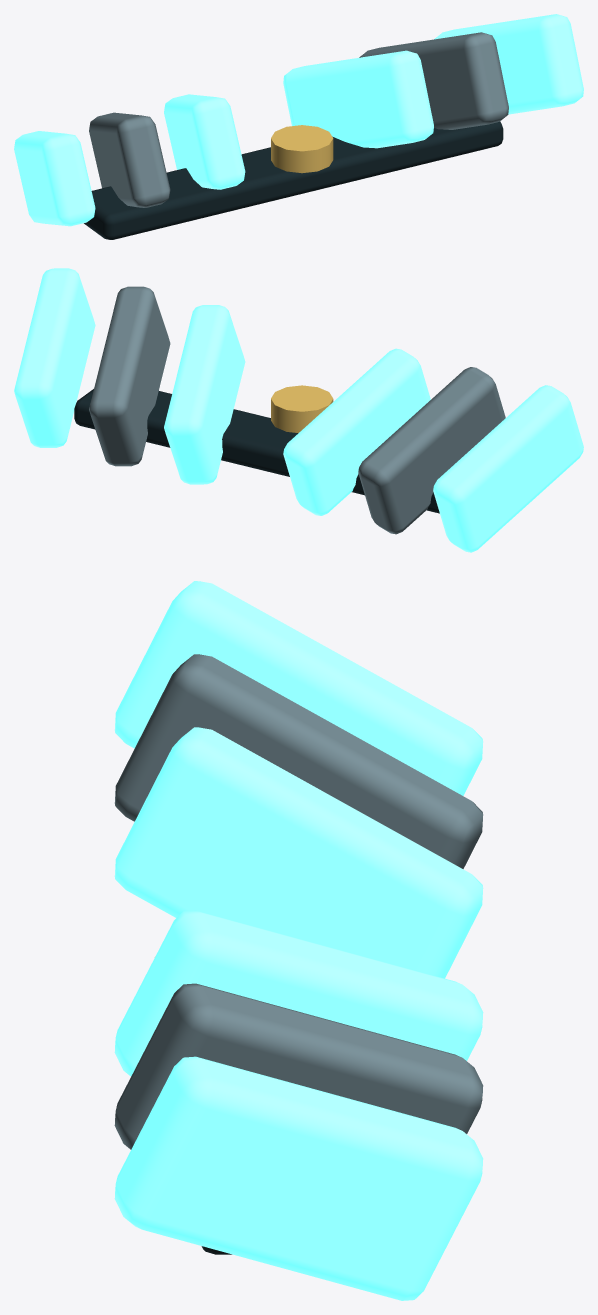
The model's file is upgrade-fan_blade_vanes.glb.
3 renders of one model, top to bottom at view 1: azimuth 30°, elevation 25°; view 2: azimuth 150°, elevation 25°; view 3: azimuth 270°, elevation 25°, orthographic. The views are drawn at different scales.
Parts seen in each view (by area): view 1: upgrade-fan_blade_vanes; view 2: upgrade-fan_blade_vanes; view 3: upgrade-fan_blade_vanes.
Part boxes in pixels (x1,y1,x2,y2): upgrade-fan_blade_vanes: [14, 14, 583, 239]; upgrade-fan_blade_vanes: [14, 268, 583, 552]; upgrade-fan_blade_vanes: [114, 581, 483, 1300].
Bounding box in the file's own units: 2.53 × 0.6028 × 0.7665.
